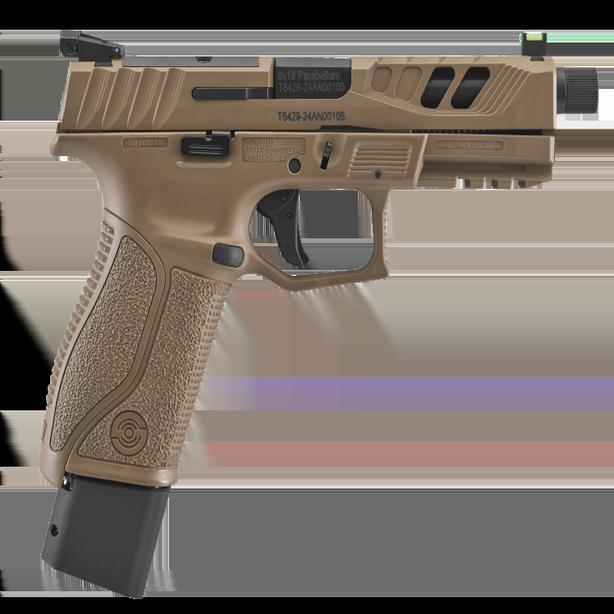Firearm: (38, 42, 606, 598)
